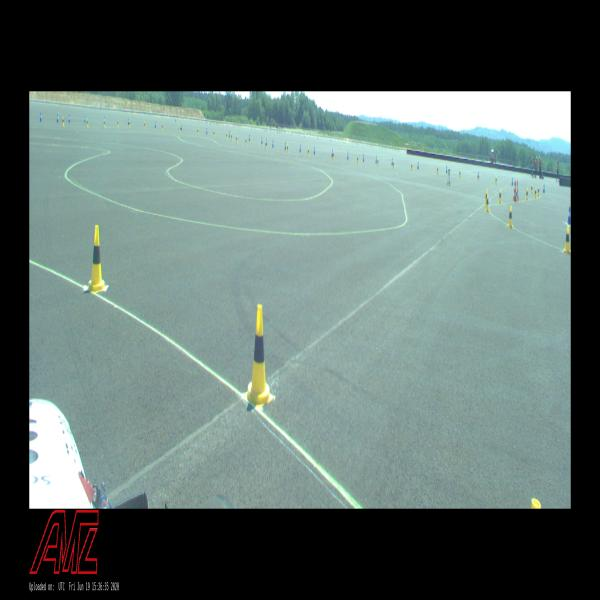blue_cone: (567, 206, 571, 224), (445, 166, 448, 173), (68, 114, 70, 123), (347, 151, 349, 160), (543, 184, 545, 192), (40, 112, 42, 120), (57, 114, 59, 122), (272, 140, 274, 148), (331, 150, 333, 158), (417, 162, 419, 169), (128, 118, 130, 125), (391, 158, 393, 165), (84, 116, 86, 122), (206, 128, 208, 134), (261, 138, 263, 144), (376, 156, 377, 164), (285, 142, 286, 150), (512, 178, 513, 185), (363, 154, 364, 161), (300, 145, 301, 152), (314, 147, 315, 154), (155, 122, 156, 128), (181, 125, 182, 131), (229, 131, 230, 137), (249, 135, 250, 141), (266, 139, 267, 145)
large_orange_cone: (513, 180, 517, 202), (516, 180, 519, 202)
yellow_cone: (245, 305, 274, 408), (87, 225, 106, 292), (564, 226, 570, 254), (507, 206, 514, 228), (484, 194, 490, 212), (498, 189, 502, 204), (484, 189, 487, 206), (534, 187, 537, 198), (537, 186, 540, 196), (356, 154, 359, 164), (307, 148, 310, 157), (516, 189, 518, 202), (530, 185, 533, 193), (458, 170, 461, 178), (392, 160, 395, 168), (86, 119, 89, 127), (103, 119, 106, 127), (526, 188, 528, 199), (265, 140, 267, 150), (62, 116, 64, 126), (495, 176, 497, 185), (410, 162, 412, 171), (332, 151, 334, 160), (436, 166, 438, 174), (377, 158, 379, 166), (286, 144, 288, 152), (245, 137, 247, 145), (117, 120, 119, 128), (231, 134, 233, 141), (477, 173, 479, 180), (213, 130, 215, 137), (161, 124, 163, 130), (197, 128, 199, 134), (236, 135, 237, 143), (226, 132, 227, 140), (144, 122, 145, 128), (180, 126, 181, 132), (129, 122, 130, 127)
